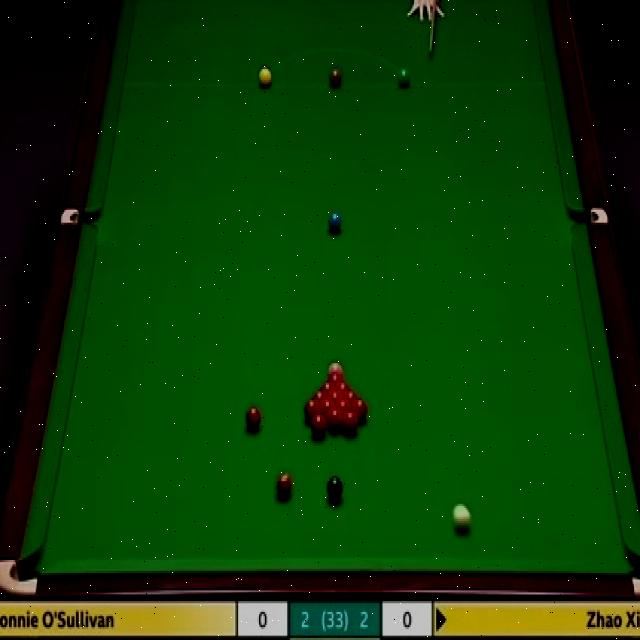black-ball: (325, 474, 342, 501)
blue-ball: (328, 213, 342, 231)
brown-ball: (329, 68, 342, 88)
green-ball: (396, 66, 412, 90)
pink-ball: (328, 363, 344, 378)
red-ball: (275, 472, 293, 500), (308, 413, 327, 438), (245, 406, 261, 431), (349, 398, 366, 421), (327, 408, 343, 432), (343, 412, 358, 435), (336, 400, 351, 422), (304, 399, 318, 422), (313, 390, 326, 403), (329, 375, 340, 388), (330, 391, 340, 405)
white-ball: (453, 504, 471, 534)
yellow-ball: (258, 67, 272, 89)
